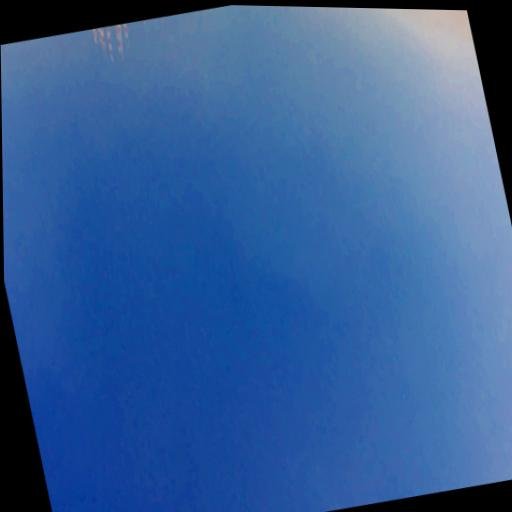drones: (368, 8, 377, 10)
